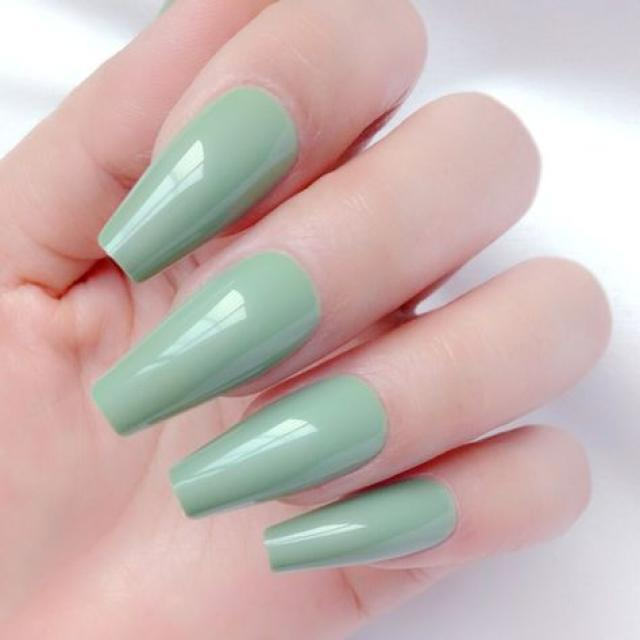Fingernail: (91, 251, 322, 438), (97, 86, 297, 284), (169, 375, 388, 519), (264, 477, 457, 573)
